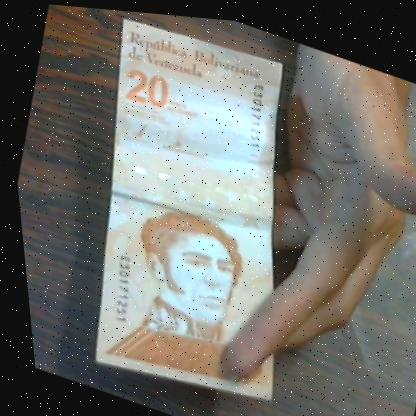vef_front: (15, 1, 416, 416)
